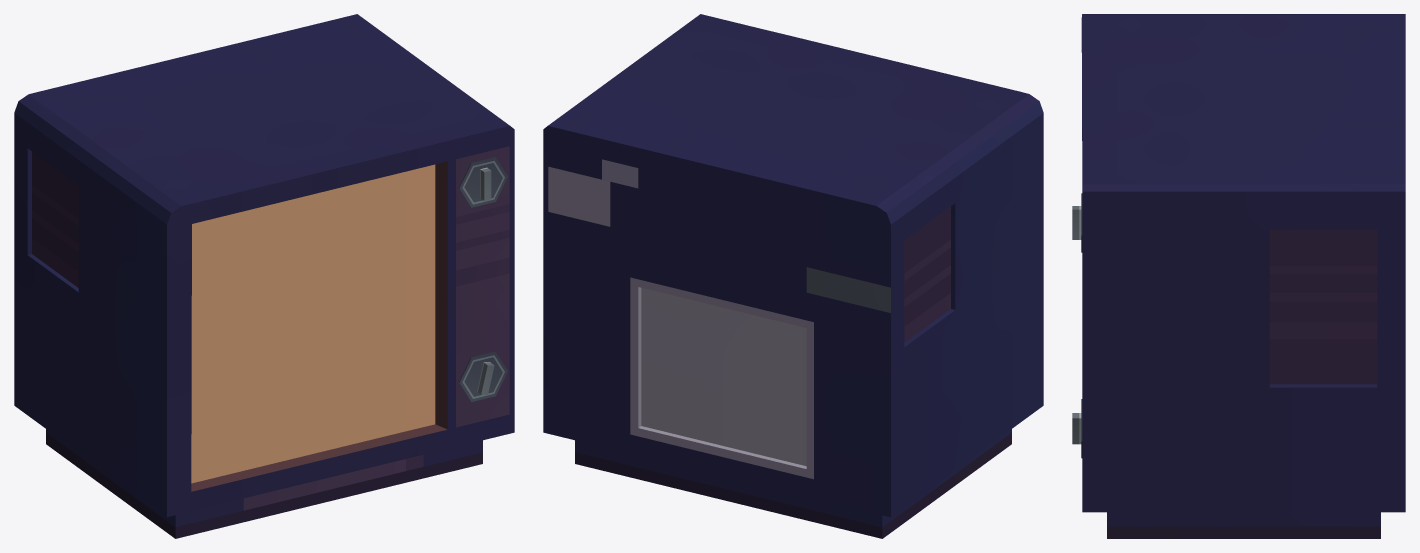
The model's file is Prop_TV05.fbx.
3 renders of one model, left to right at view 1: azimuth 30°, elevation 25°; view 2: azimuth 150°, elevation 25°; view 3: azimuth 270°, elevation 25°, orthographic. The views are drawn at different scales.
Visible parts, largest first — view 1: Cube.431; view 2: Cube.431; view 3: Cube.431.
Part boxes in pixels (<box>): Cube.431: <box>14,14,514,538</box>; Cube.431: <box>543,14,1043,538</box>; Cube.431: <box>1072,14,1405,538</box>.
Bounding box in the file's own units: 55.14 × 51.95 × 43.26.
